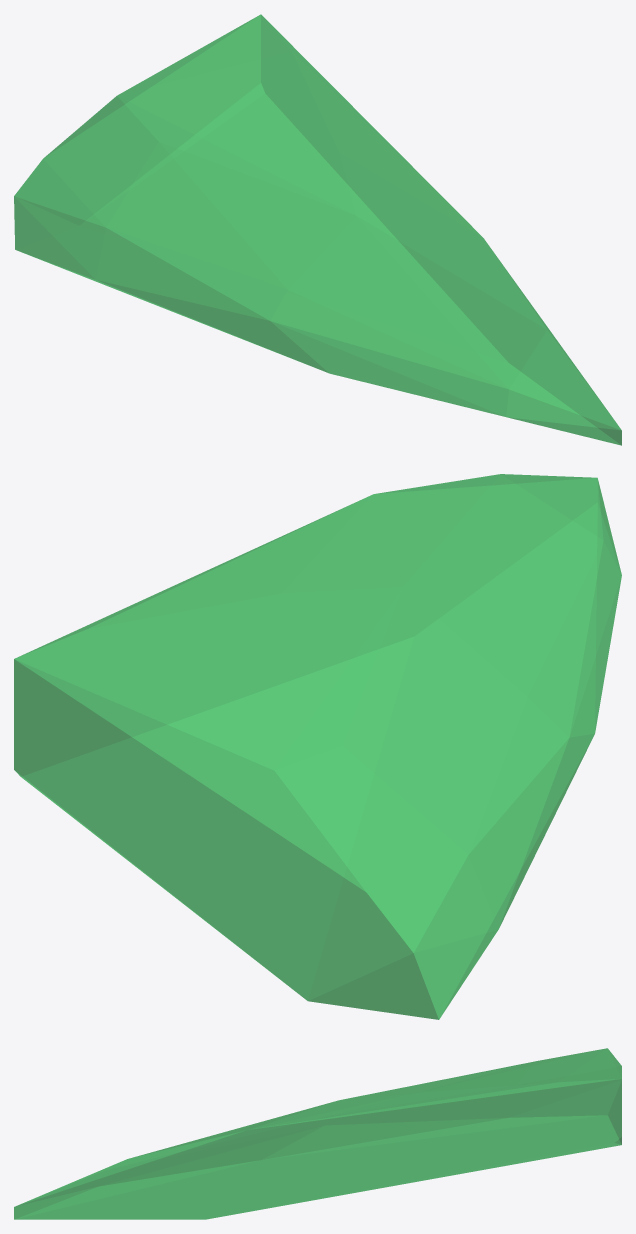
3 renders of one model, top to bottom at view 1: azimuth 30°, elevation 25°; view 2: azimuth 150°, elevation 25°; view 3: azimuth 270°, elevation 25°, orthographic. The views are drawn at different scales.
Visible parts, largest first — view 1: Shape_IndexedFaceSet.001_Shape_IndexedFaceSet.7607; view 2: Shape_IndexedFaceSet.001_Shape_IndexedFaceSet.7607; view 3: Shape_IndexedFaceSet.001_Shape_IndexedFaceSet.7607.
Boxes of the visible parts, x1,y1,x2,y2 form: Shape_IndexedFaceSet.001_Shape_IndexedFaceSet.7607: [14, 14, 621, 445]; Shape_IndexedFaceSet.001_Shape_IndexedFaceSet.7607: [14, 474, 621, 1019]; Shape_IndexedFaceSet.001_Shape_IndexedFaceSet.7607: [14, 1048, 621, 1219].
Bounding box in the file's own units: 0.0716 × 0.045 × 0.1758.
